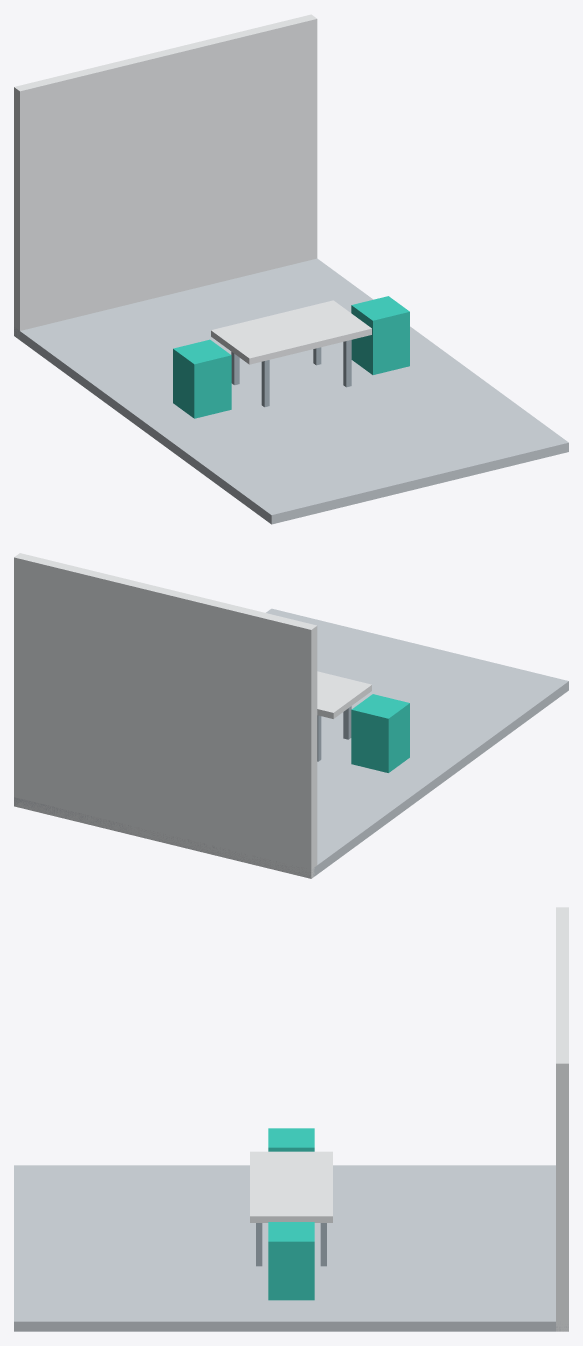
The picture shows the model from 3 angles, top to bottom: view 1: azimuth 30°, elevation 25°; view 2: azimuth 150°, elevation 25°; view 3: azimuth 270°, elevation 25°; orthographic projection. The views are drawn at different scales.
Parts seen in each view (by area): view 1: Exhibition Booth Concept; view 2: Exhibition Booth Concept; view 3: Exhibition Booth Concept.
Boxes of the visible parts, x1,y1,x2,y2 form: Exhibition Booth Concept: (14,14,568,524); Exhibition Booth Concept: (14,553,568,878); Exhibition Booth Concept: (14,907,568,1331).
Bounding box in the file's own units: 4 × 3.2 × 6.
